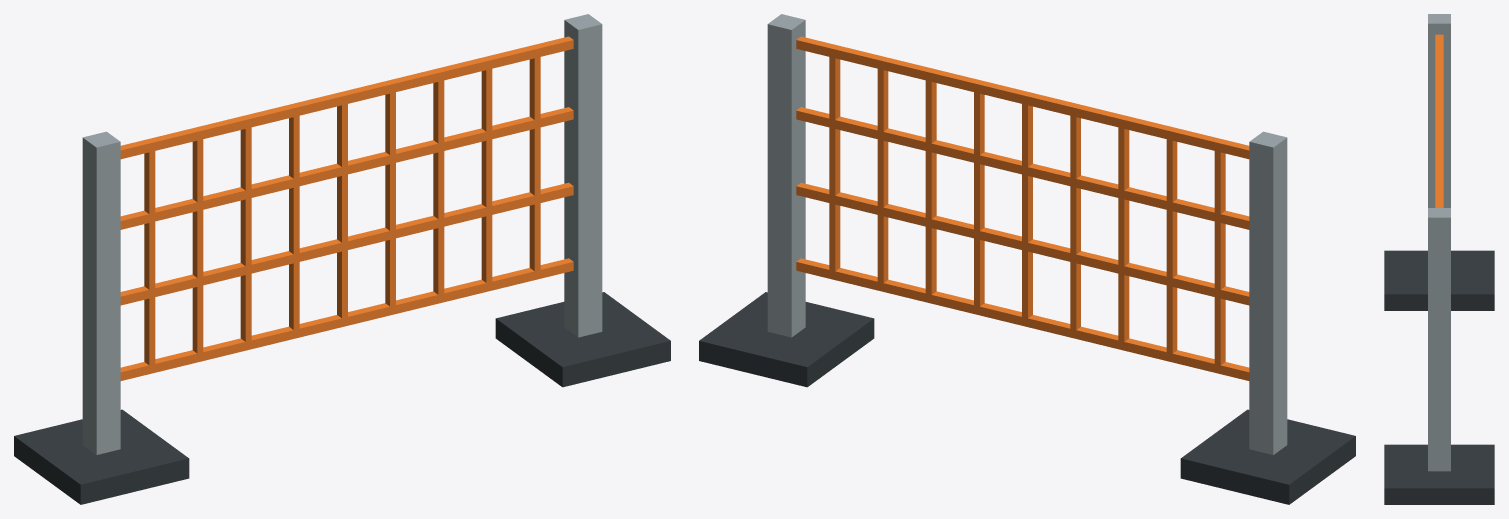
File: TR3_Roadwork_Fencing_2m.glb
3 views of the same model, side by side, from view 1: azimuth 30°, elevation 25°; view 2: azimuth 150°, elevation 25°; view 3: azimuth 270°, elevation 25° (orthographic). The views are drawn at different scales.
Visible parts, largest first — view 1: TR3_Roadwork_Fencing_2m; view 2: TR3_Roadwork_Fencing_2m; view 3: TR3_Roadwork_Fencing_2m.
Boxes of the visible parts, left/top/right/bottom form: TR3_Roadwork_Fencing_2m: left=14, top=14, right=670, bottom=504; TR3_Roadwork_Fencing_2m: left=699, top=14, right=1355, bottom=504; TR3_Roadwork_Fencing_2m: left=1384, top=14, right=1494, bottom=504.
Bounding box in the file's own units: 2.45 × 1.3 × 0.48.
